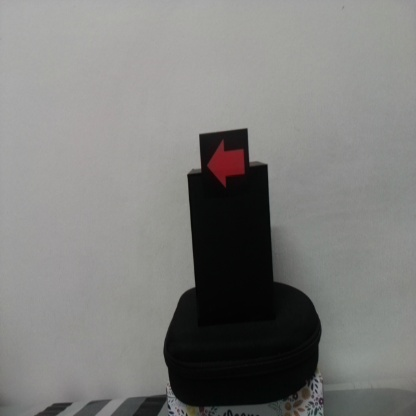id_4: (200, 134, 249, 200)
